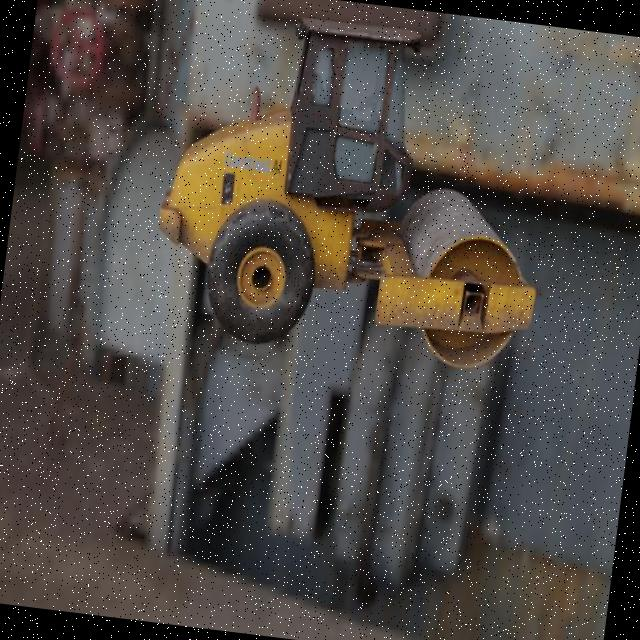Roller: (144, 0, 565, 377)
